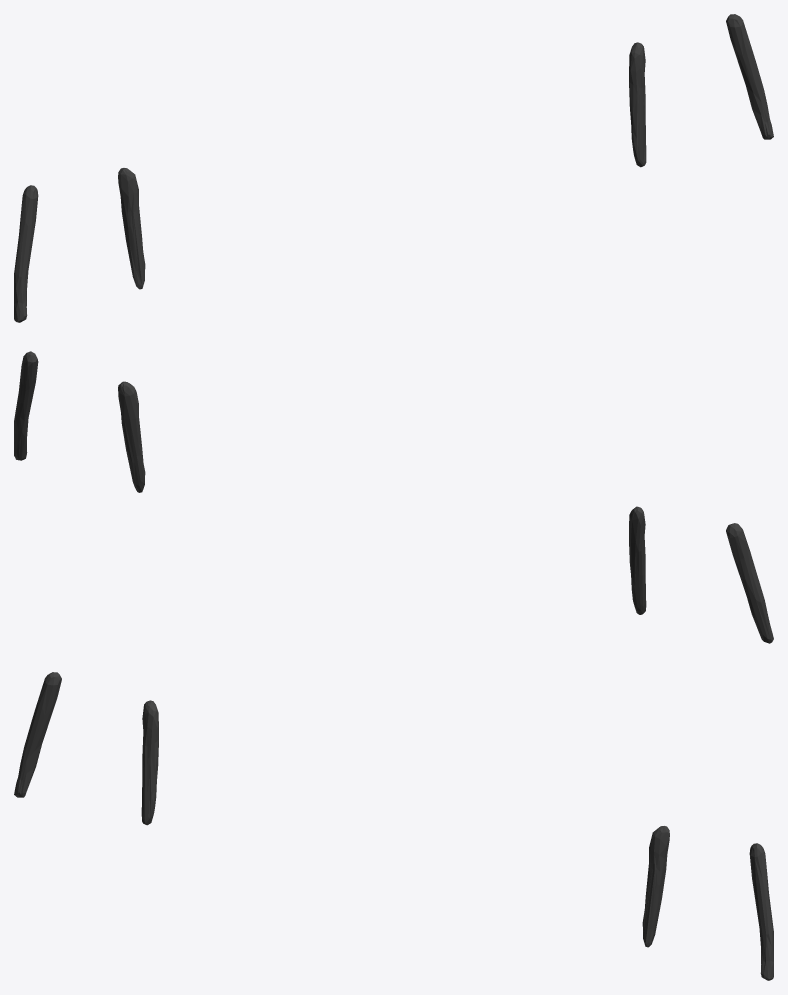
The model's file is lig_abaxial_palmar_FL.glb.
The picture shows the model from 3 angles, top to bottom: view 1: azimuth 30°, elevation 25°; view 2: azimuth 150°, elevation 25°; view 3: azimuth 330°, elevation 25°; orthographic projection.
Parts seen in each view (by area): view 1: lig_abaxial_palmar_FL; view 2: lig_abaxial_palmar_FL; view 3: lig_abaxial_palmar_FL.
Part boxes in pixels (x1,y1,x2,y2): lig_abaxial_palmar_FL: (14,14,773,322); lig_abaxial_palmar_FL: (14,351,773,643); lig_abaxial_palmar_FL: (14,672,773,980).
Size of the model in its own units: 0.00398 by 0.000614 by 0.00017.
Materials: 1 (1 with a texture image).
